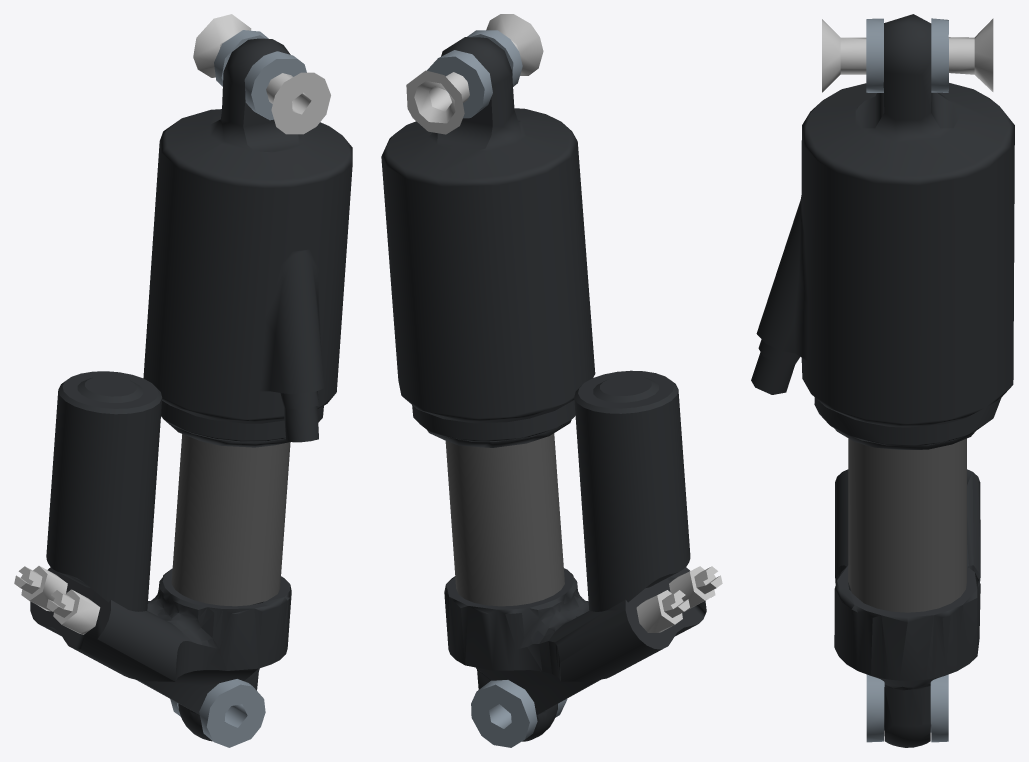
Rendered from shock_LOD0.fbx.
3 views of the same model, side by side, from view 1: azimuth 30°, elevation 25°; view 2: azimuth 150°, elevation 25°; view 3: azimuth 270°, elevation 25° (orthographic). The views are drawn at different scales.
Parts seen in each view (by area): view 1: MM_carbon_n0508_shock, MM_carbon_n0254_shock, MM_carbon_n0255_shock, MM_carbon_n0261_shock, MM_carbon_n0599_shock, MM_carbon_n0510_shock, MM_carbon_n0597_shock, MM_carbon_n0259_shock, MM_carbon_n0257_shock, MM_carbon_n0512_shock; view 2: MM_carbon_n0508_shock, MM_carbon_n0254_shock, MM_carbon_n0255_shock, MM_carbon_n0263_shock, MM_carbon_n0597_shock, MM_carbon_n0512_shock, MM_carbon_n0599_shock, MM_carbon_n0257_shock, MM_carbon_n0259_shock, MM_carbon_n0510_shock; view 3: MM_carbon_n0508_shock, MM_carbon_n0255_shock, MM_carbon_n0254_shock, MM_carbon_n0597_shock, MM_carbon_n0599_shock, MM_carbon_n0510_shock, MM_carbon_n0512_shock, MM_carbon_n0263_shock, MM_carbon_n0261_shock.
Part boxes in pixels (x1,y1,x2,y2): MM_carbon_n0508_shock: (143, 38, 352, 447); MM_carbon_n0254_shock: (30, 371, 291, 741); MM_carbon_n0255_shock: (171, 434, 290, 606); MM_carbon_n0261_shock: (199, 679, 265, 747); MM_carbon_n0599_shock: (266, 72, 330, 134); MM_carbon_n0510_shock: (244, 51, 306, 120); MM_carbon_n0597_shock: (193, 14, 251, 77); MM_carbon_n0259_shock: (46, 589, 100, 634); MM_carbon_n0257_shock: (14, 566, 67, 611); MM_carbon_n0512_shock: (214, 30, 268, 86); MM_carbon_n0508_shock: (381, 37, 595, 447); MM_carbon_n0254_shock: (444, 370, 706, 741); MM_carbon_n0255_shock: (445, 433, 564, 606); MM_carbon_n0263_shock: (471, 680, 537, 747); MM_carbon_n0597_shock: (406, 70, 469, 134); MM_carbon_n0512_shock: (427, 50, 492, 118); MM_carbon_n0599_shock: (486, 14, 543, 75); MM_carbon_n0257_shock: (636, 590, 689, 632); MM_carbon_n0259_shock: (669, 566, 722, 611); MM_carbon_n0510_shock: (467, 30, 522, 86); MM_carbon_n0508_shock: (751, 14, 1014, 449); MM_carbon_n0255_shock: (848, 438, 966, 612); MM_carbon_n0254_shock: (834, 469, 980, 747); MM_carbon_n0597_shock: (948, 18, 993, 91); MM_carbon_n0599_shock: (822, 19, 866, 92); MM_carbon_n0510_shock: (866, 18, 883, 92); MM_carbon_n0512_shock: (931, 18, 948, 92); MM_carbon_n0263_shock: (930, 674, 948, 742); MM_carbon_n0261_shock: (866, 674, 884, 742).
Size of the model in its own units: 0.1043 by 0.2219 by 0.0708.
